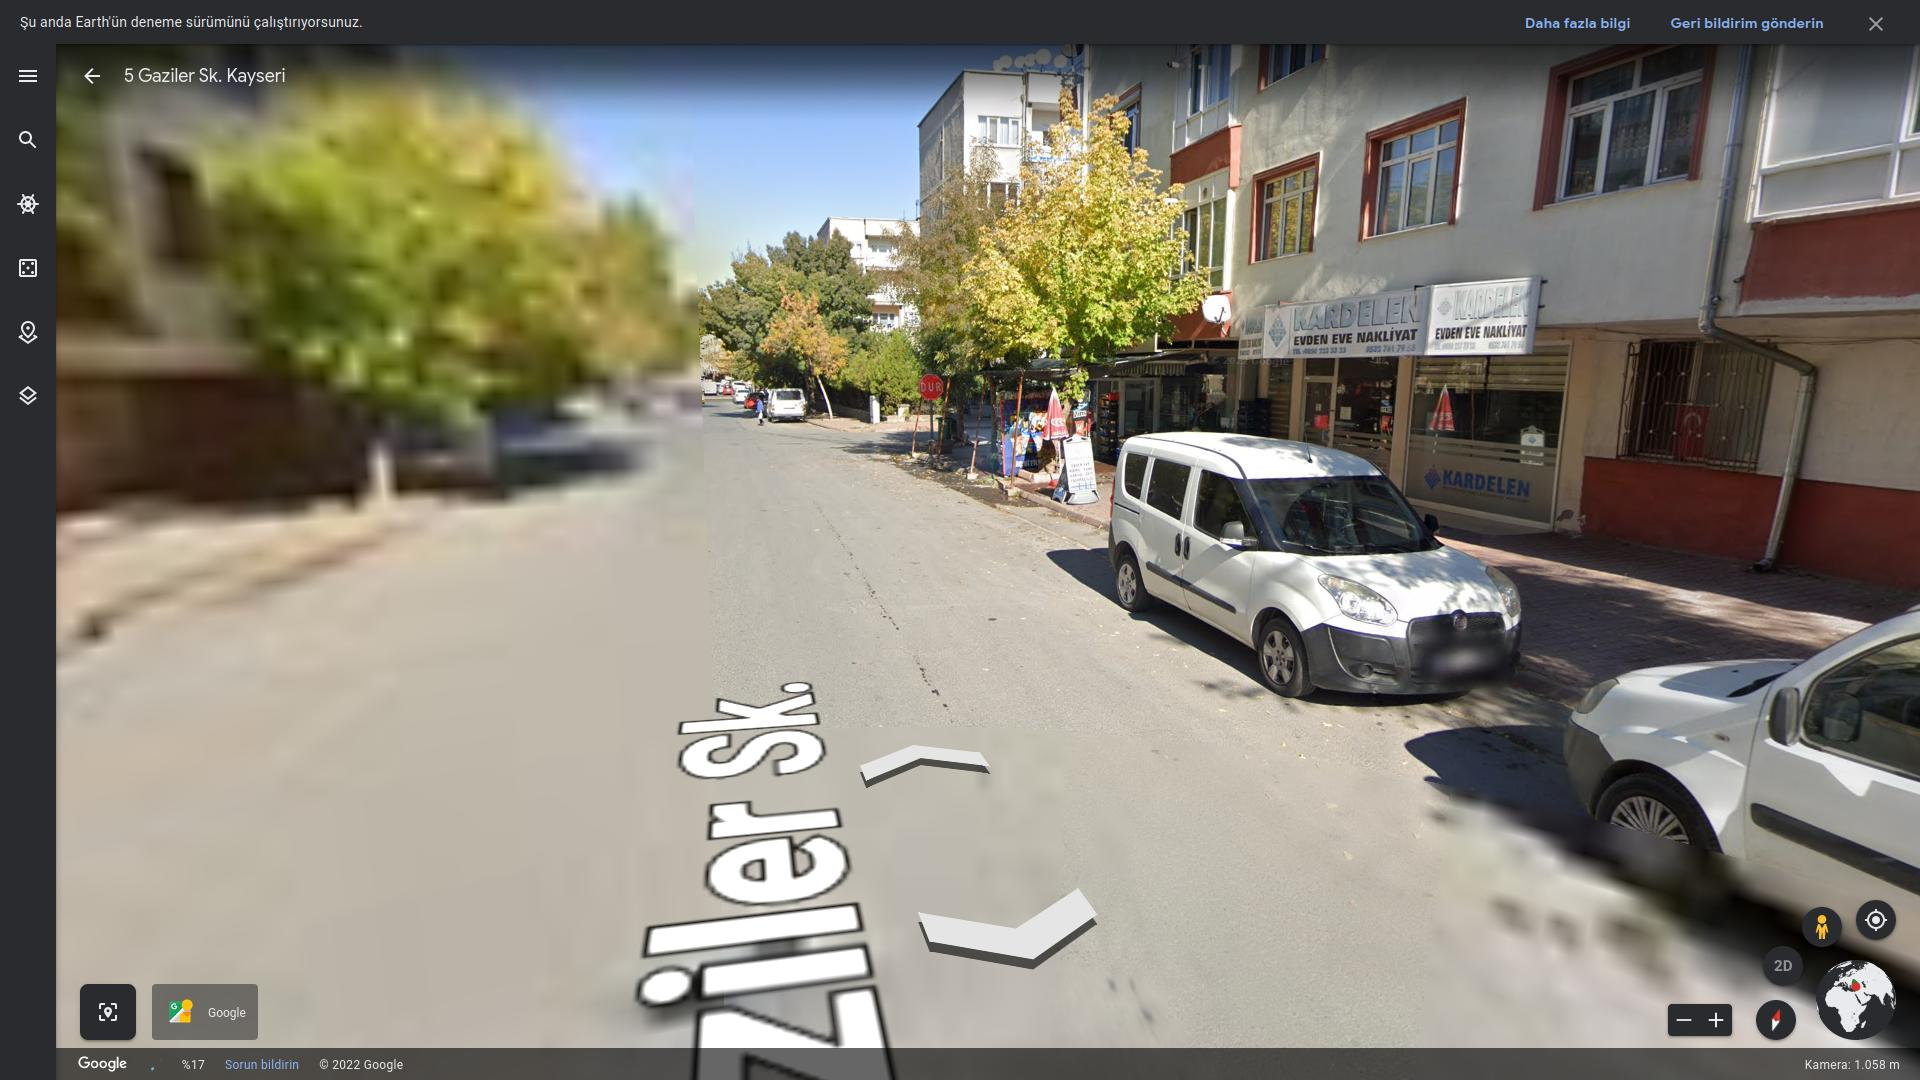stop: (918, 373, 943, 400)
